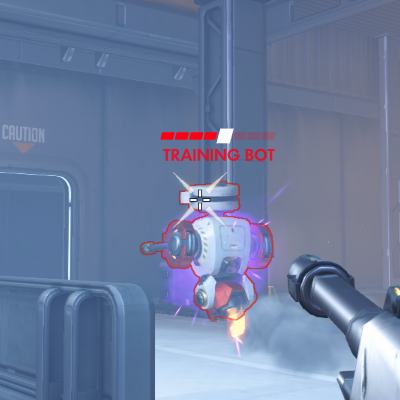hpbar: (160, 131, 276, 141)
